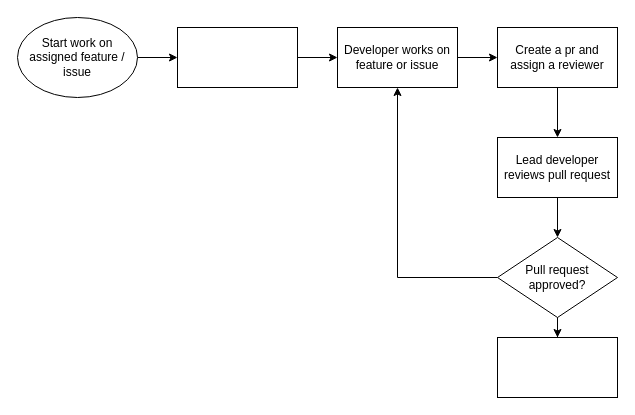
This 635x415 diagram has some shape labels left out. The shapes that lost their labels are listed below. From the top down, each one's centre as x and y in pixels, then its label:
At (237,57): "Create branch off of release version".
At (557,367): "Pull request gets merged into release branch".
